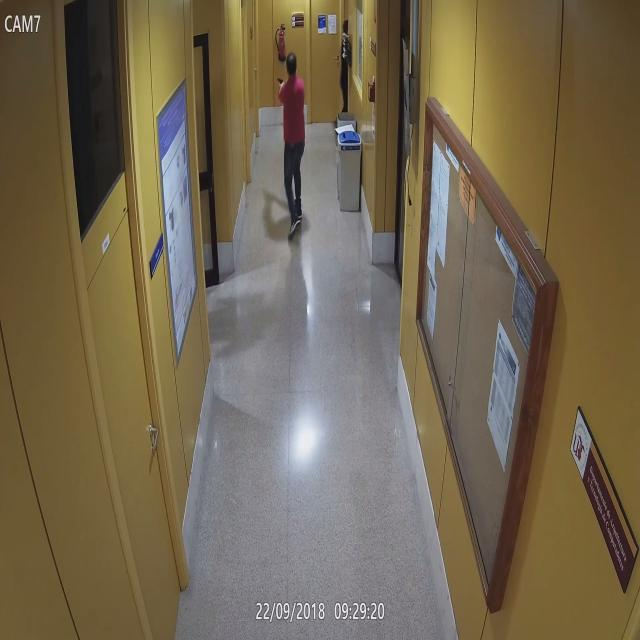Gun: (264, 73, 288, 102)
